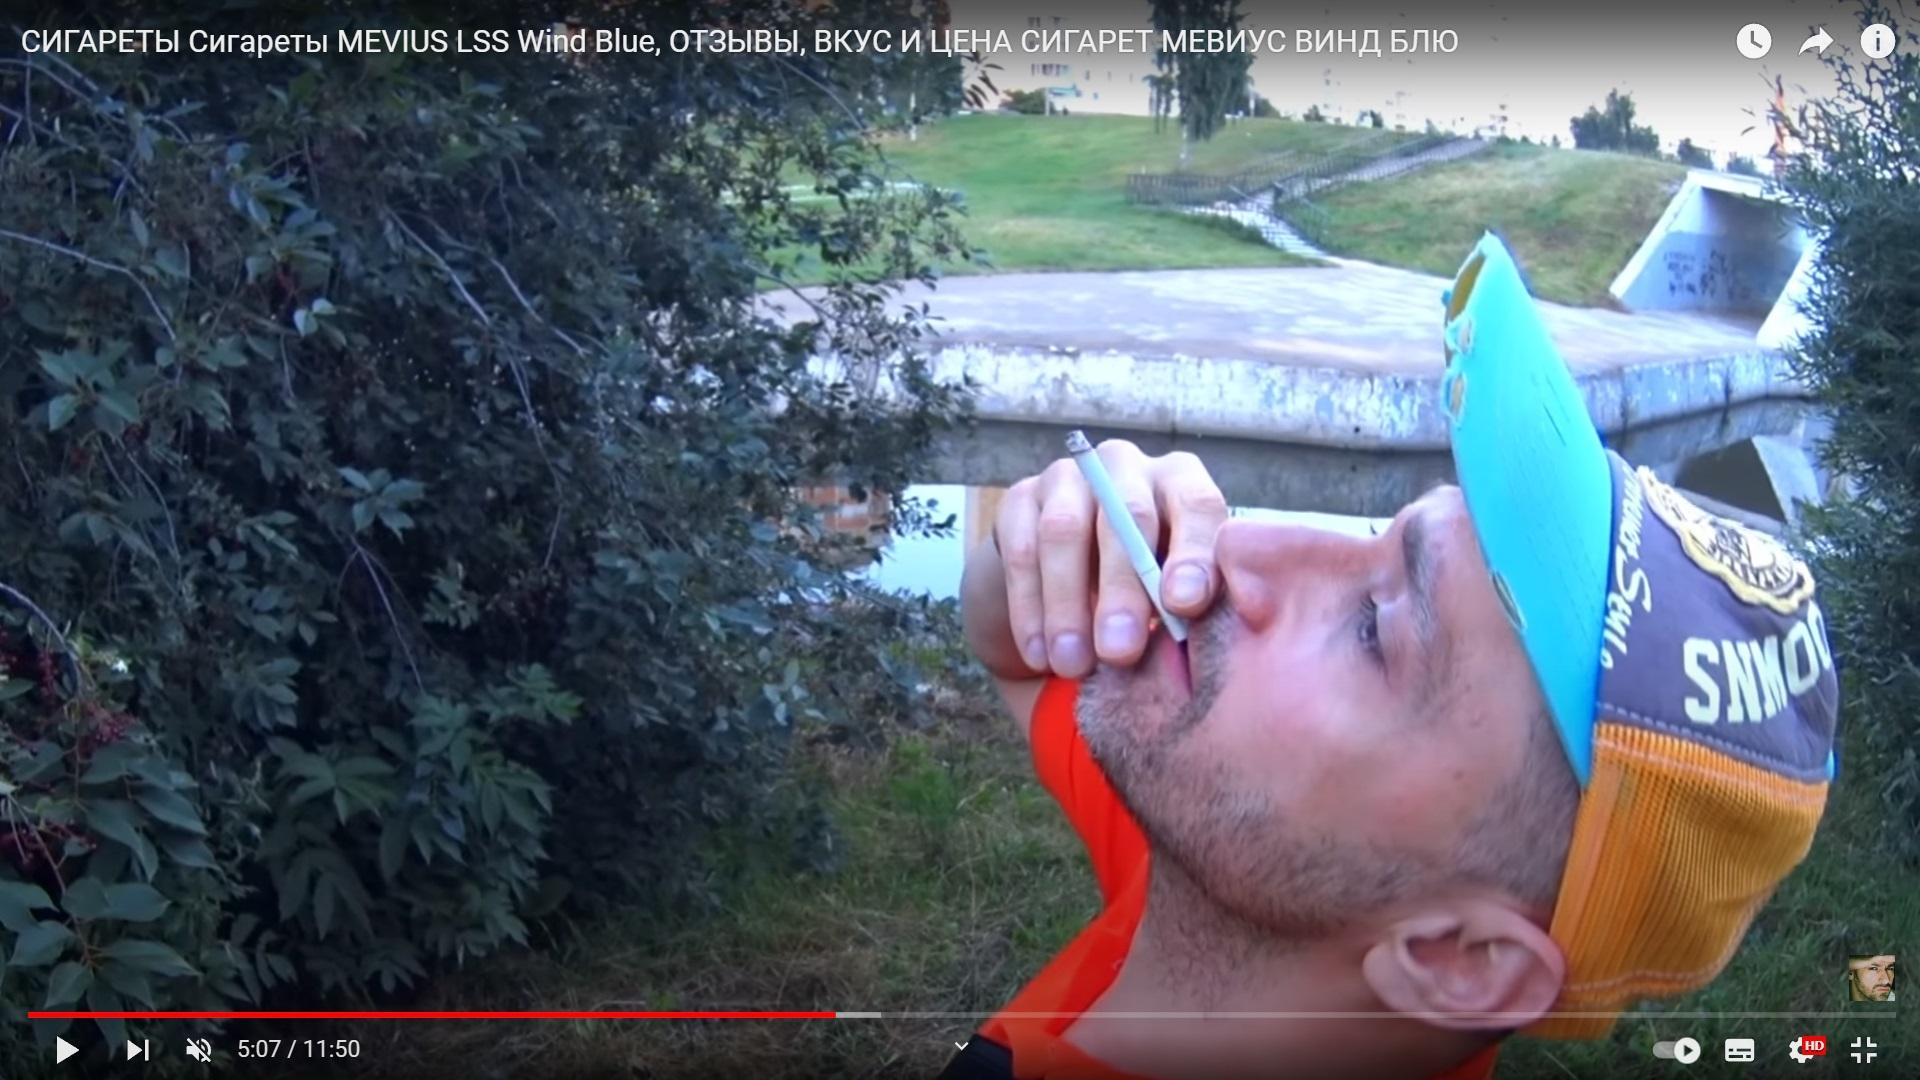cigarette: (1064, 429, 1192, 644)
